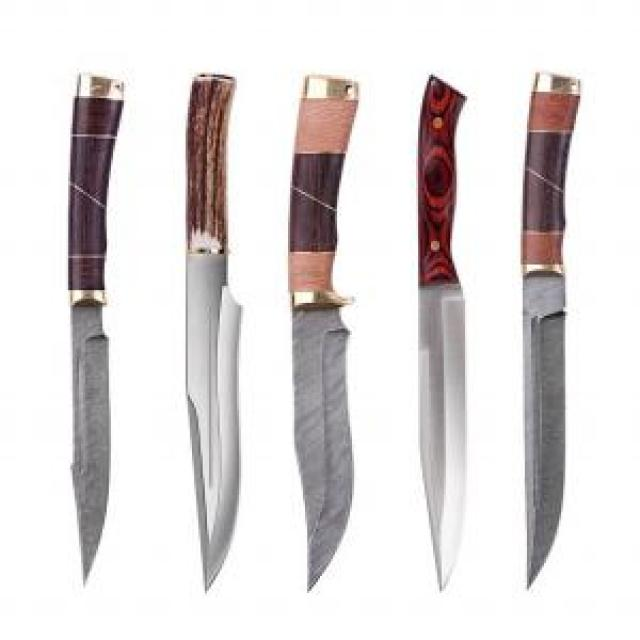knife: (273, 77, 366, 600), (499, 70, 590, 592), (175, 72, 248, 600), (405, 64, 474, 598), (66, 66, 130, 597)
